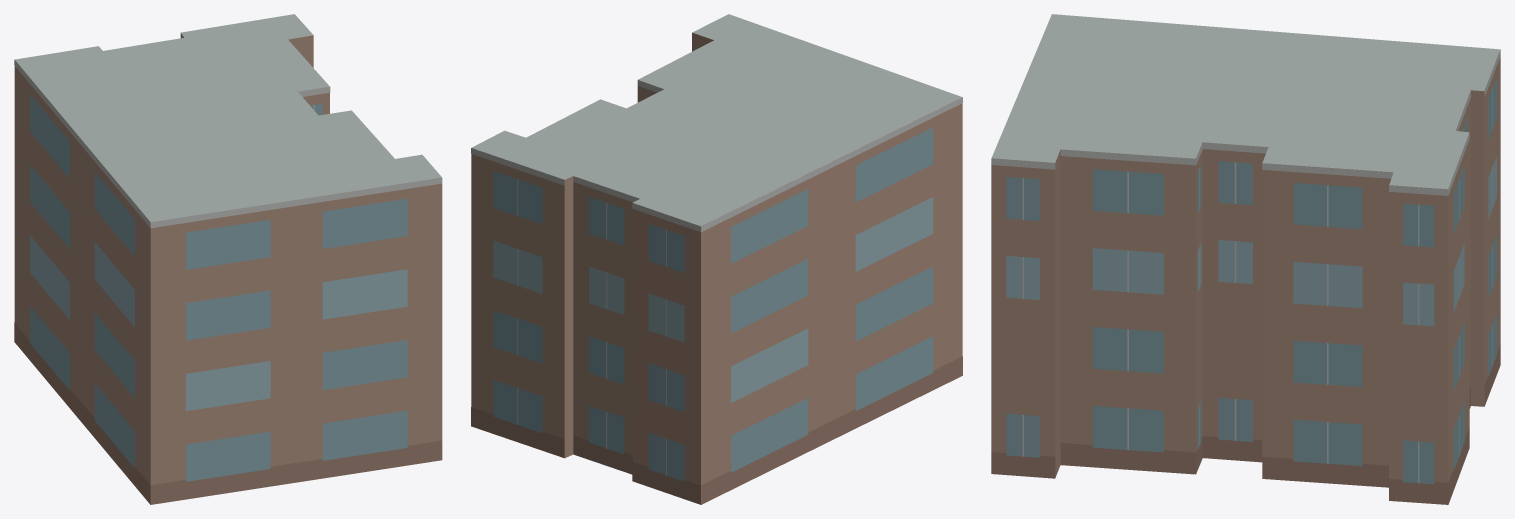
File: survey-upis-32682926.glb
The picture shows the model from 3 angles, left to right: view 1: azimuth 30°, elevation 25°; view 2: azimuth 150°, elevation 25°; view 3: azimuth 270°, elevation 25°; orthographic projection. The views are drawn at different scales.
Parts seen in each view (by area): view 1: survey-upis-32682926.tmp; view 2: survey-upis-32682926.tmp; view 3: survey-upis-32682926.tmp.
Boxes of the visible parts, box(x1,y1,x2,y2) form: survey-upis-32682926.tmp: box(14, 14, 442, 504); survey-upis-32682926.tmp: box(471, 14, 962, 504); survey-upis-32682926.tmp: box(991, 14, 1500, 504).
Size of the model in its own units: 13.75 by 11.54 by 16.88.
